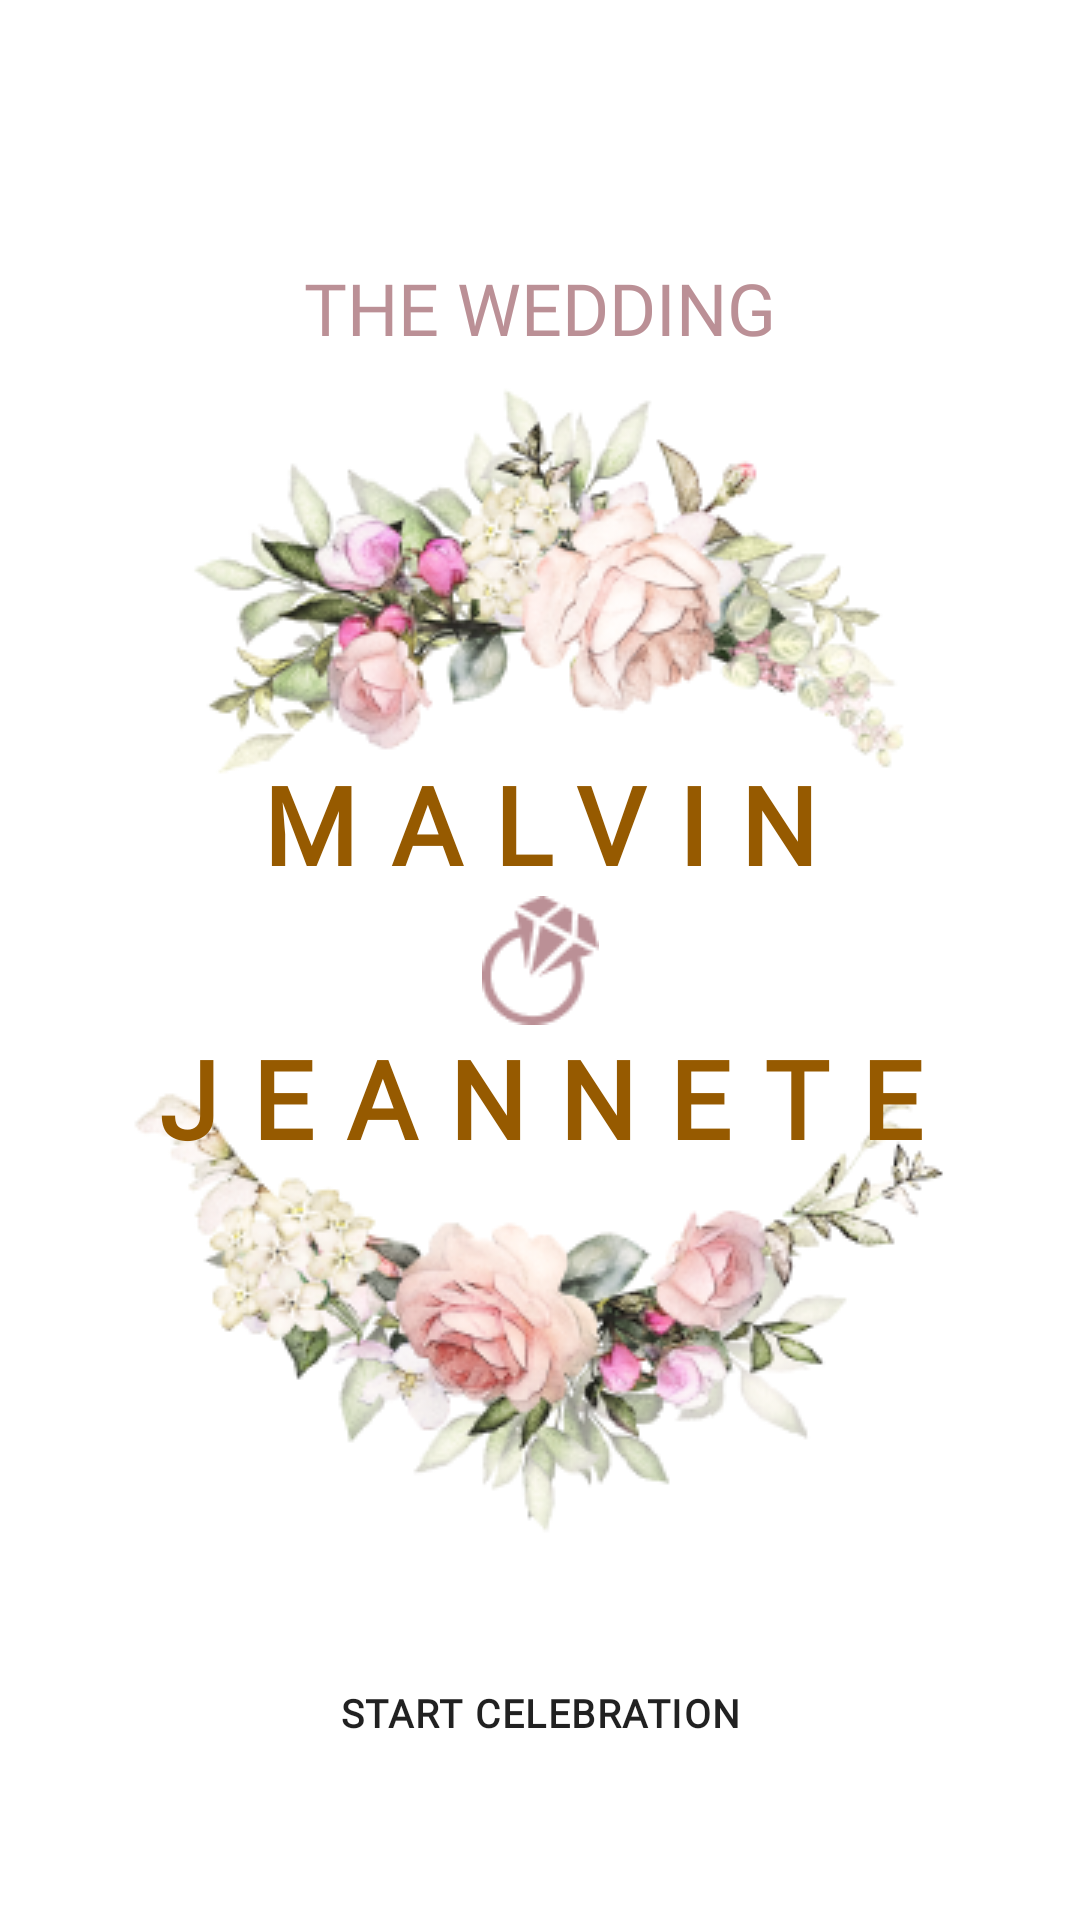

Screen size 1080w x 1920h. Icon name, then its center in pixels as [x,y]:
ring: [540,960]
